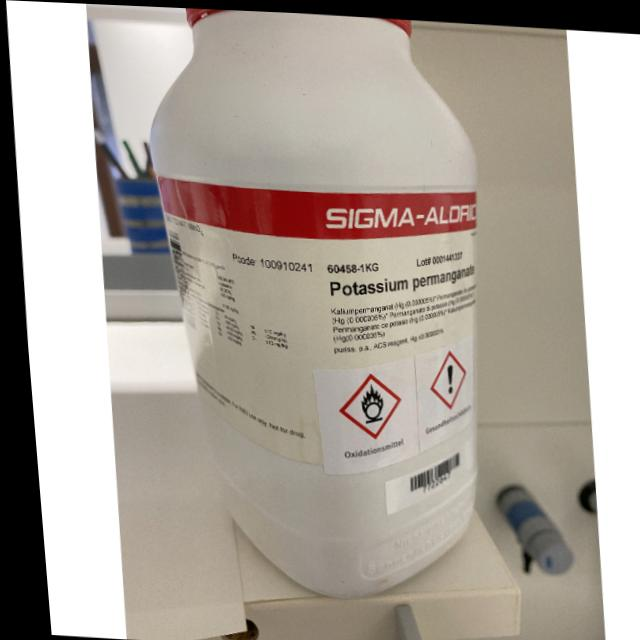health-ozone layer hazard: (441, 360, 448, 389)
oxidising: (352, 380, 378, 421)
